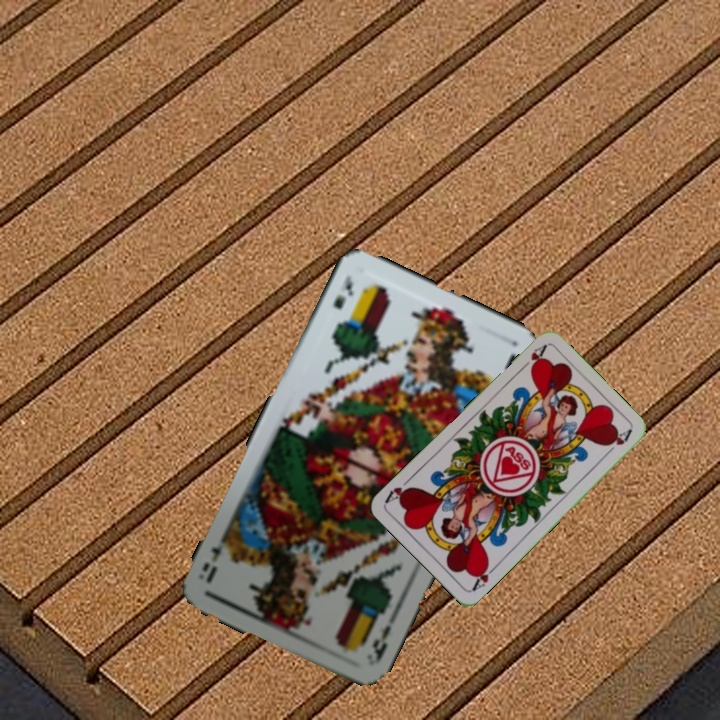EK: (368, 620, 394, 664), (329, 271, 356, 312)
HA: (468, 558, 500, 594), (516, 341, 549, 374)
